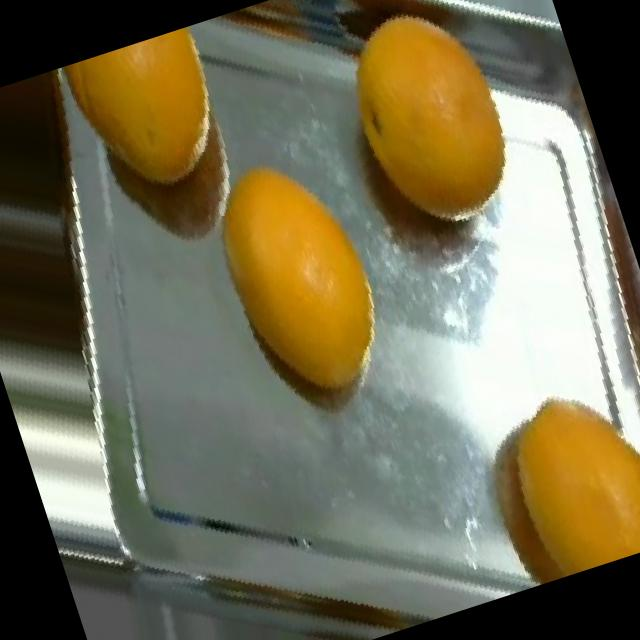Fruit: (180, 126, 395, 373), (52, 24, 250, 248)
